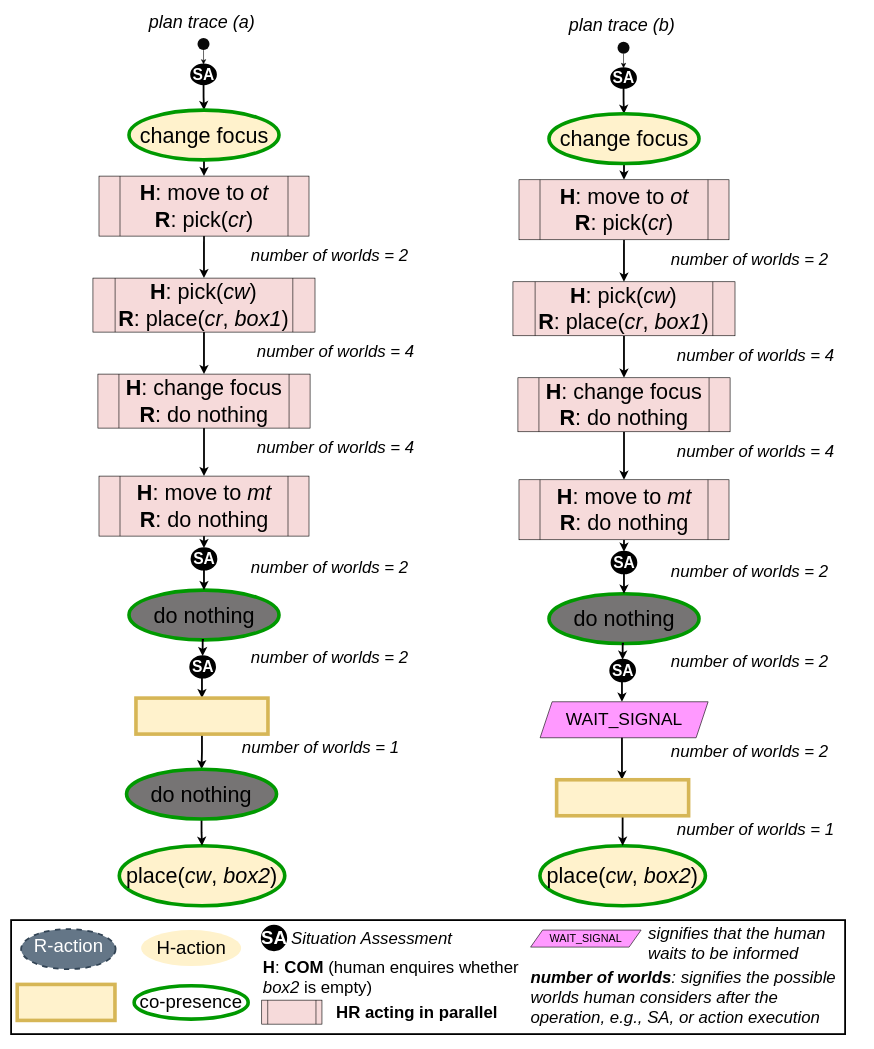
The diagram is 874 pixels wide and 1049 high, and some of its shapes have lost their labels. Each missing label, with the box of its shape:
comm. action: (15, 982, 116, 1022)
H : COM empty( box2 ): (134, 696, 269, 736)
R : COM empty( box2 ): (555, 778, 690, 817)
